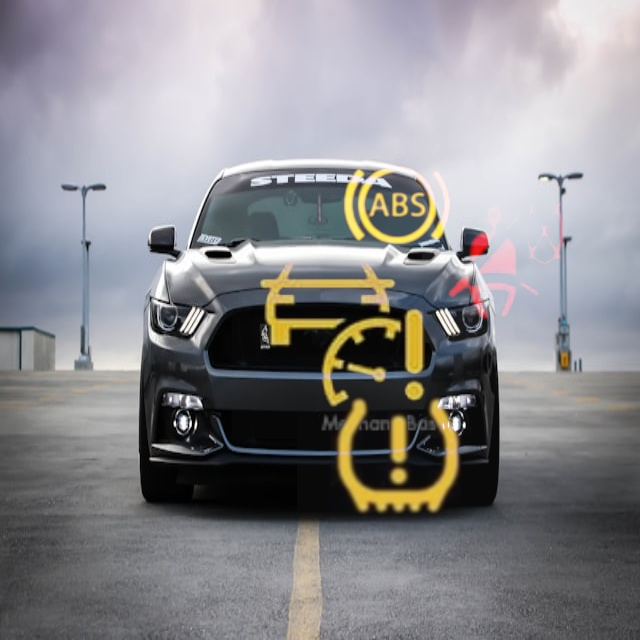symbol: (232, 220, 451, 439), (297, 355, 501, 559), (422, 173, 592, 343), (321, 130, 473, 282)
